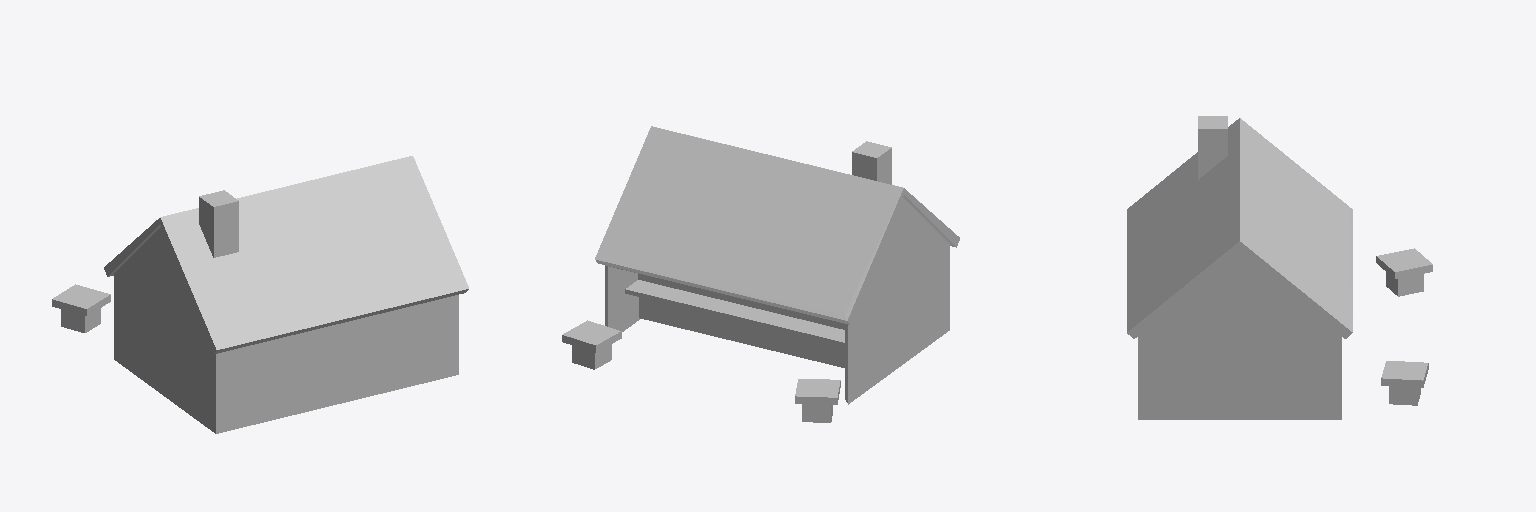
File: PoiKiosk.obj
3 views of the same model, side by side, from view 1: azimuth 30°, elevation 25°; view 2: azimuth 150°, elevation 25°; view 3: azimuth 270°, elevation 25° (orthographic).
Parts seen in each view (by area): view 1: Kiosk PROPS; view 2: Kiosk PROPS; view 3: Kiosk PROPS.
Boxes of the visible parts, x1=… form: Kiosk PROPS: x1=52, y1=156, x2=468, y2=433; Kiosk PROPS: x1=562, y1=126, x2=959, y2=422; Kiosk PROPS: x1=1127, y1=116, x2=1432, y2=419.
Bounding box in the file's own units: 3.57 × 2.47 × 3.46.